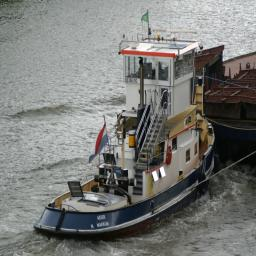tugboat: (29, 28, 219, 245)
